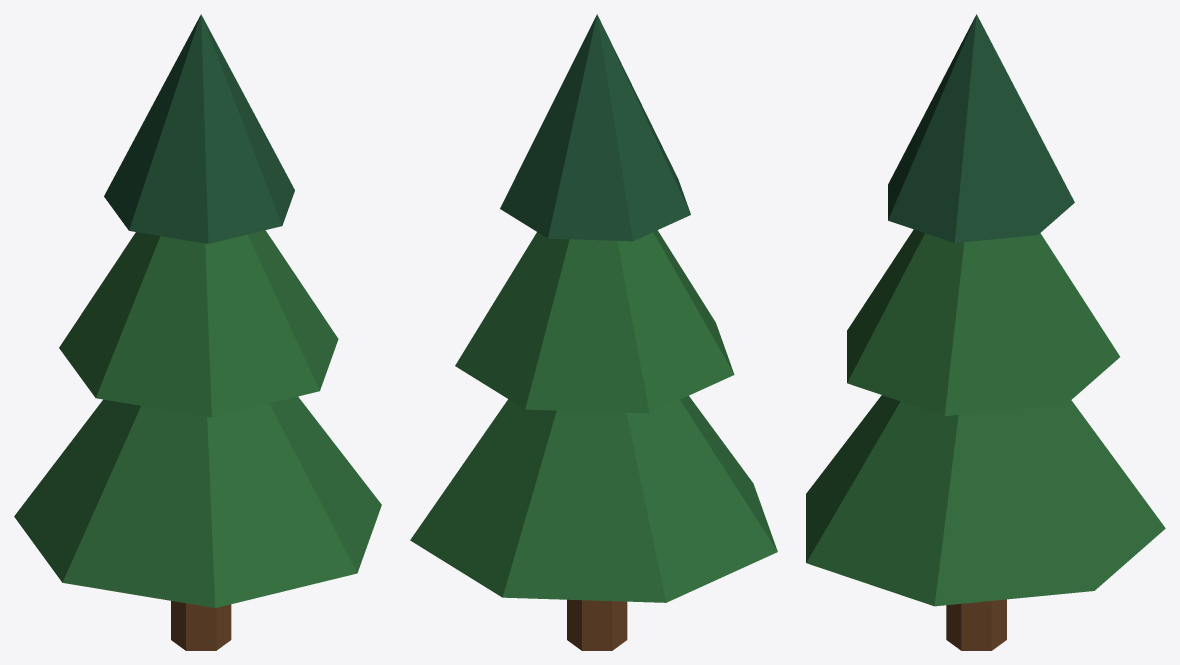
The model's file is tree_3.glb.
3 views of the same model, side by side, from view 1: azimuth 30°, elevation 25°; view 2: azimuth 150°, elevation 25°; view 3: azimuth 270°, elevation 25° (orthographic).
Parts seen in each view (by area): view 1: leaves1, leaves2, trunk; view 2: leaves1, leaves2, trunk; view 3: leaves1, leaves2, trunk.
Boxes of the visible parts, bbox=[...] form: leaves1: bbox=[14, 230, 381, 607]; leaves2: bbox=[104, 14, 294, 243]; trunk: bbox=[171, 601, 231, 650]; leaves1: bbox=[410, 230, 777, 602]; leaves2: bbox=[500, 14, 690, 241]; trunk: bbox=[567, 599, 627, 650]; leaves1: bbox=[806, 229, 1165, 606]; leaves2: bbox=[888, 14, 1074, 242]; trunk: bbox=[946, 599, 1006, 650].
Bounding box in the file's own units: 0.9749 × 1.82 × 0.9505.
